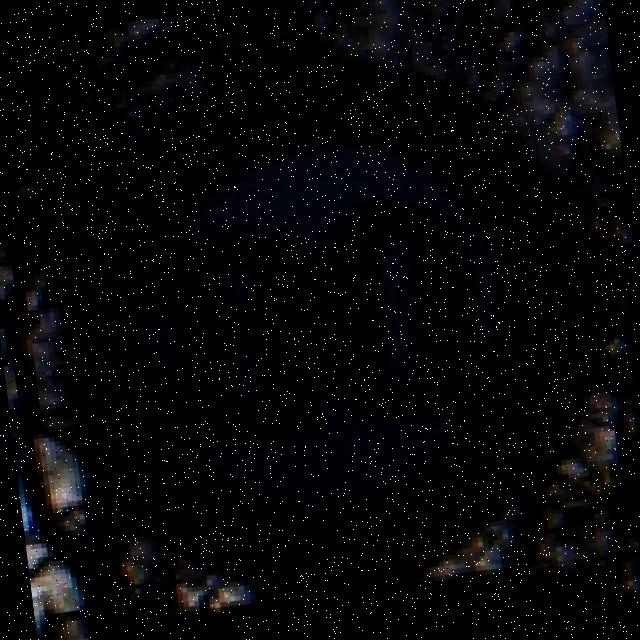Ograniczenie predkosci do 80: (28, 51, 584, 604)
